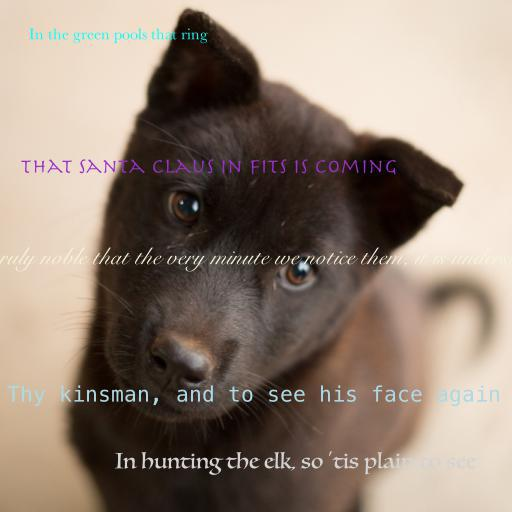Baskerville: (28, 28, 208, 44)
Herculanum: (21, 159, 397, 175)
Luminari: (114, 451, 476, 475)
Menlo: (7, 385, 501, 407)
Snell Roundhand: (0, 247, 512, 272)
